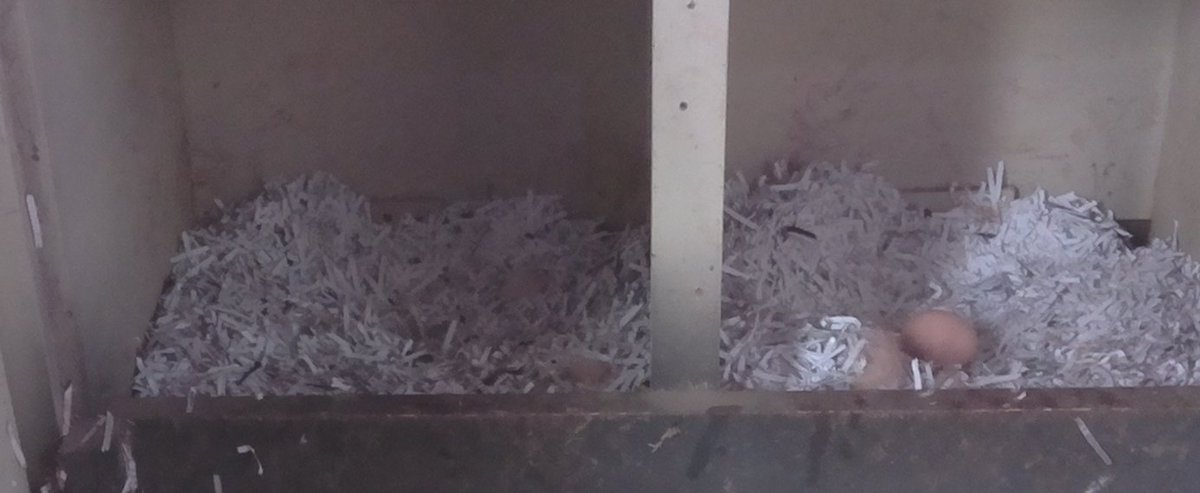egg: (899, 308, 980, 370)
